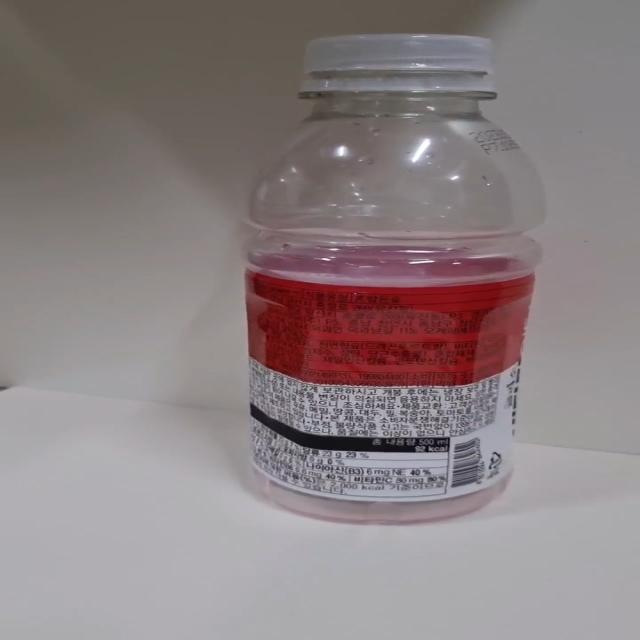Plastic: (243, 34, 548, 528)
